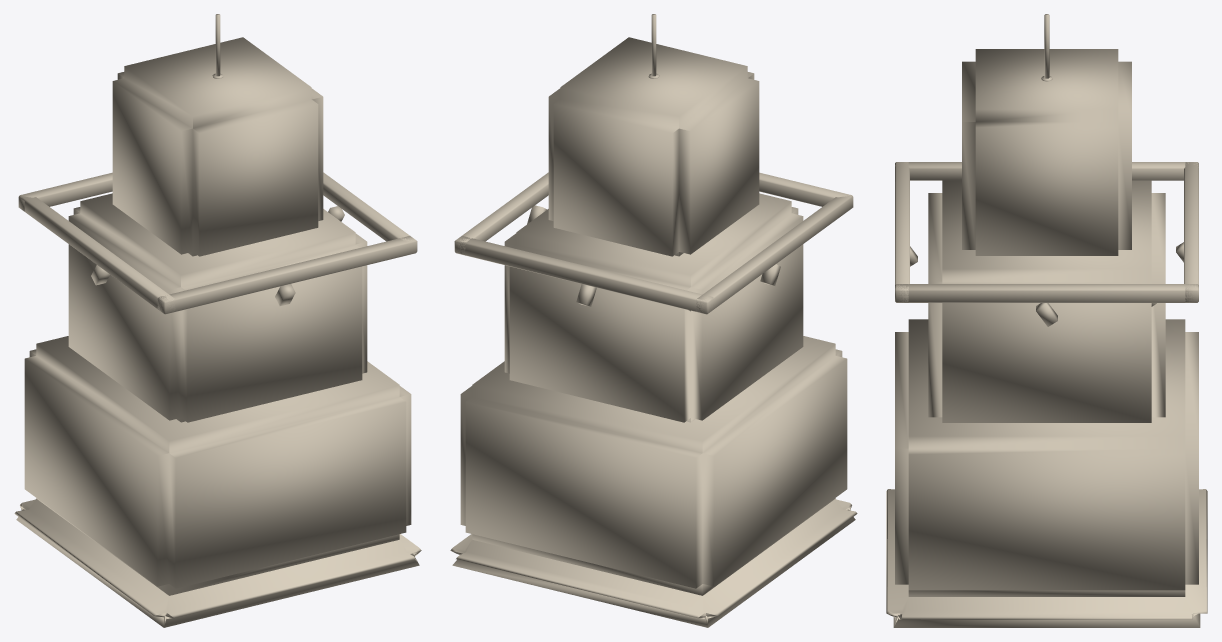
The model's file is tower_main_tidemark.glb.
3 renders of one model, left to right at view 1: azimuth 30°, elevation 25°; view 2: azimuth 150°, elevation 25°; view 3: azimuth 270°, elevation 25°, orthographic. The views are drawn at different scales.
Visible parts, largest first — view 1: tower_main_tidemark; view 2: tower_main_tidemark; view 3: tower_main_tidemark.
Boxes of the visible parts, bbox=[...] form: tower_main_tidemark: bbox=[14, 14, 421, 627]; tower_main_tidemark: bbox=[450, 14, 857, 627]; tower_main_tidemark: bbox=[886, 14, 1207, 627].
Size of the model in its own units: 3.17 by 5.97 by 3.17.
